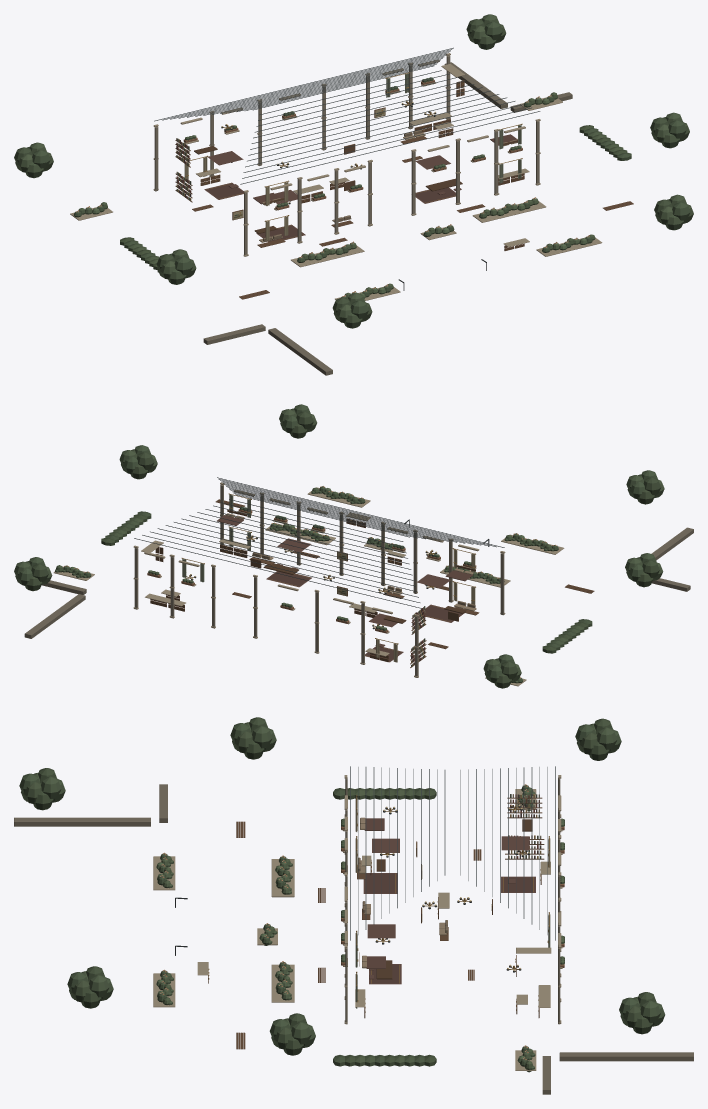
Rendered from detail.glb.
3 views of the same model, one above another, from view 1: azimuth 30°, elevation 25°; view 2: azimuth 150°, elevation 25°; view 3: azimuth 270°, elevation 25° (orthographic). The views are drawn at different scales.
Visible parts, largest first — view 1: stone-0-0-1, garden-1-1-0, metal-0-0-1, metal-0--1-1, metal--1-0-1, fabric-0-0-0, metal--1--1-1, garden--1-0-0, stone-1-0-1, fabric--1-0-0, stone--1-1-0, stone-1-0-0 (+13 smaller); view 2: stone-0-0-1, garden-1-1-0, metal--1--1-1, metal-0--1-1, metal--1-0-1, fabric-0-0-0, metal-0-0-1, garden--1-0-0, stone-1-0-1, fabric--1-0-0, stone-1-0-0, garden-1-0-0 (+14 smaller); view 3: garden-1-1-0, fabric-0-0-0, garden--1-0-0, stone--1-1-0, garden-1-0-0, stone-1-0-0, fabric--1-0-0, garden--1-1-0, garden-1--1-0, garden--1-2-0, stone-1--1-0, stone-0-1-0 (+11 smaller).
Boxes of the visible parts, bbox=[...] form: stone-0-0-1: bbox=[209, 73, 460, 243]; garden-1-1-0: bbox=[479, 112, 693, 252]; metal-0-0-1: bbox=[276, 70, 540, 171]; metal-0--1-1: bbox=[203, 47, 453, 109]; metal--1-0-1: bbox=[240, 79, 489, 184]; fabric-0-0-0: bbox=[204, 108, 461, 241]; metal--1--1-1: bbox=[154, 59, 408, 121]; garden--1-0-0: bbox=[14, 135, 288, 272]; stone-1-0-1: bbox=[382, 53, 540, 195]; fabric--1-0-0: bbox=[76, 138, 288, 242]; stone--1-1-0: bbox=[203, 324, 332, 375]; stone-1-0-0: bbox=[385, 63, 572, 179]; stone-0-0-1: bbox=[211, 501, 453, 664]; garden-1-1-0: bbox=[119, 404, 365, 541]; metal--1--1-1: bbox=[185, 506, 421, 608]; metal-0--1-1: bbox=[134, 499, 384, 595]; metal--1-0-1: bbox=[239, 483, 504, 547]; fabric-0-0-0: bbox=[252, 538, 464, 662]; metal-0-0-1: bbox=[217, 477, 465, 540]; garden--1-0-0: bbox=[376, 561, 592, 688]; stone-1-0-1: bbox=[133, 482, 290, 618]; fabric--1-0-0: bbox=[376, 549, 520, 678]; stone-1-0-0: bbox=[42, 509, 287, 606]; garden-1-0-0: bbox=[55, 506, 286, 583]; garden-1-1-0: bbox=[67, 962, 315, 1055]; fabric-0-0-0: bbox=[362, 836, 535, 984]; garden--1-0-0: bbox=[333, 718, 621, 826]; stone--1-1-0: bbox=[14, 784, 167, 826]; garden-1-0-0: bbox=[333, 933, 564, 1072]; stone-1-0-0: bbox=[341, 940, 564, 1094]; fabric--1-0-0: bbox=[355, 784, 550, 873]; garden--1-1-0: bbox=[230, 717, 276, 759]; garden-1--1-0: bbox=[619, 992, 665, 1034]; garden--1-2-0: bbox=[19, 768, 65, 810]; stone-1--1-0: bbox=[559, 1052, 693, 1061]; stone-0-1-0: bbox=[153, 856, 294, 975].
Bounding box in the file's own units: 51.38 × 9.09 × 46.73.
